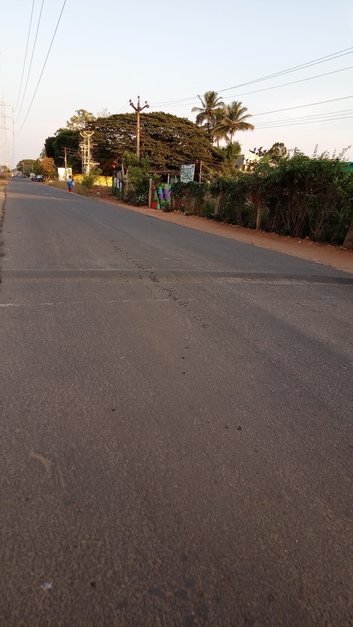bump: (1, 265, 353, 286)
